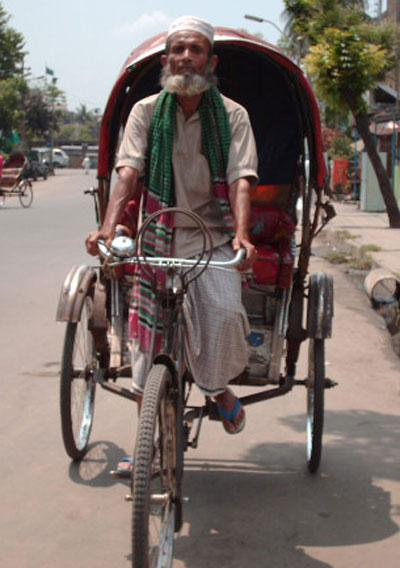Rickshaw: (44, 29, 333, 555)
